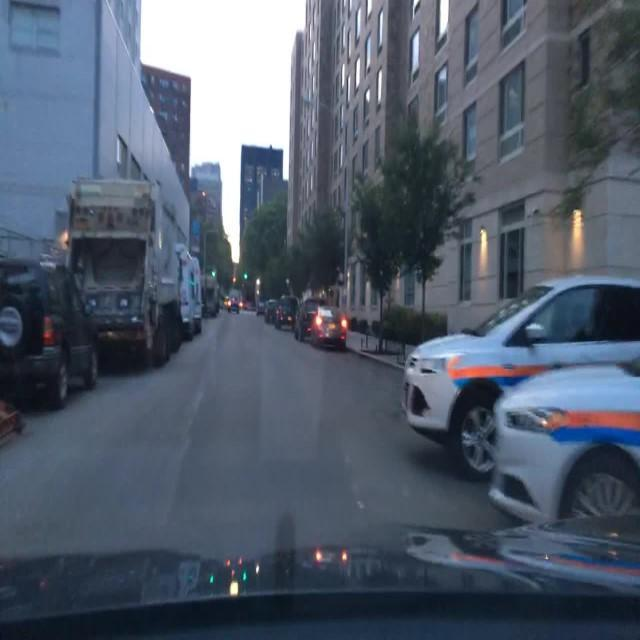normal: (406, 277, 640, 486), (64, 179, 205, 365), (311, 309, 350, 353), (293, 299, 321, 341)
